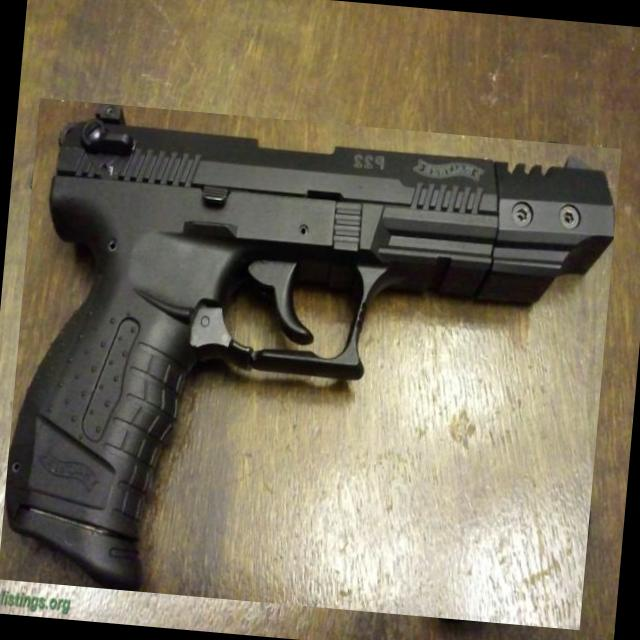Gun: (7, 104, 613, 591)
